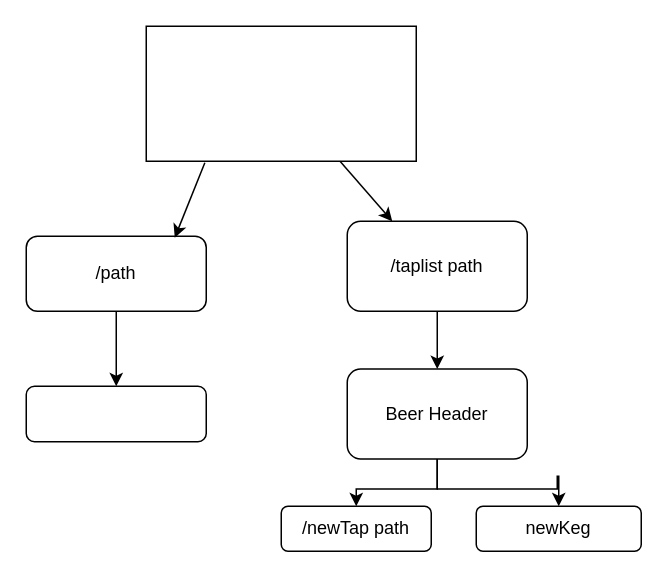
This 668x578 diagram has some shape labels left out. The centre of each missing label's shape, as x and y in pixels:
APP: [280,93]
Home: [115,413]
